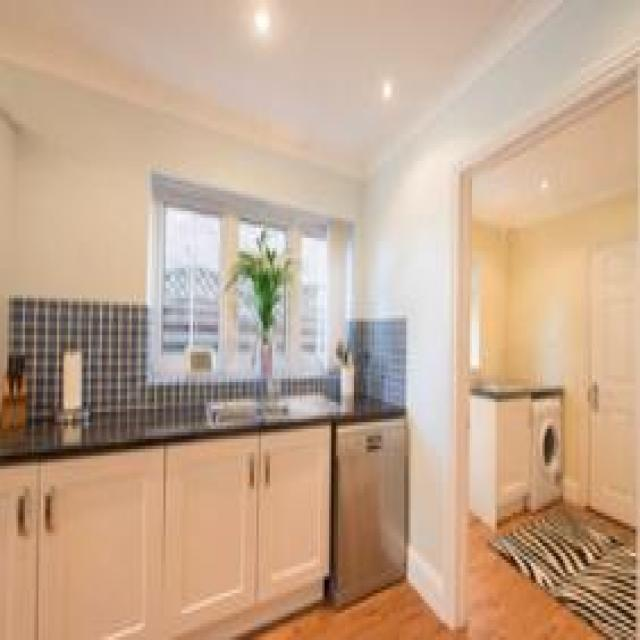dishwasher: (331, 412, 404, 603)
